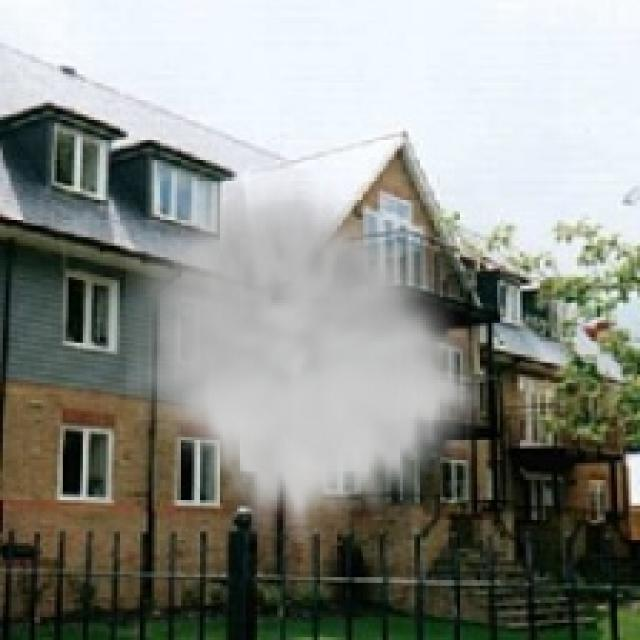Smoke: (126, 168, 480, 543)
